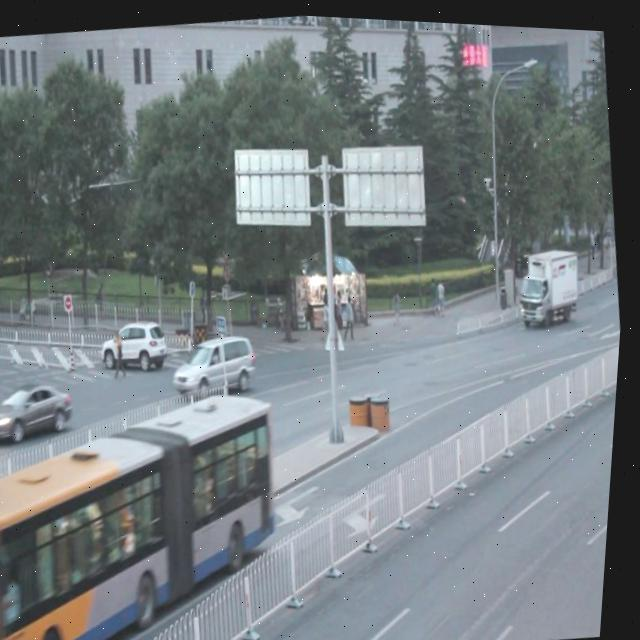bus: (512, 237, 587, 323)
car: (175, 327, 265, 397), (0, 374, 81, 445), (100, 312, 175, 374)
van: (0, 377, 307, 640)
